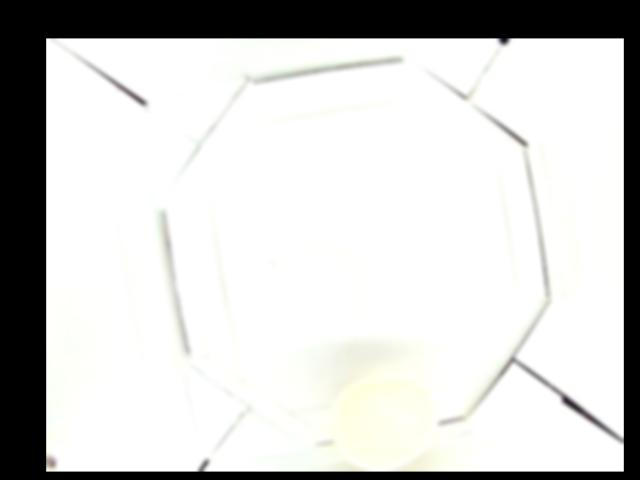Mooli: (329, 378, 439, 471)
